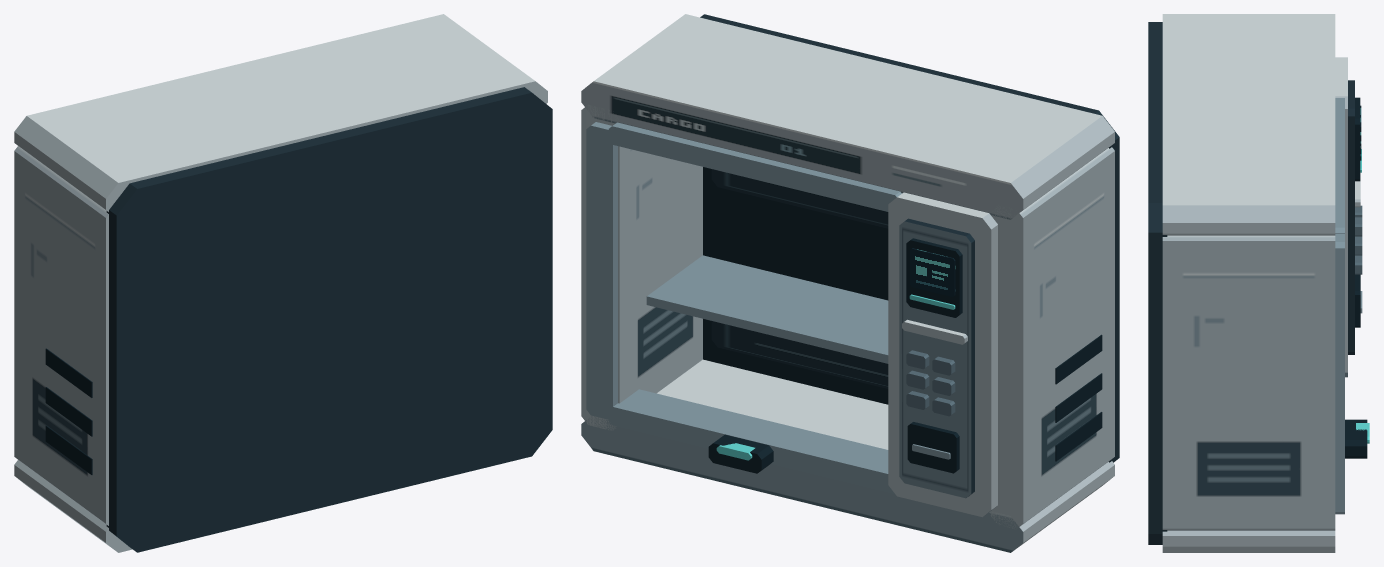
File: ship_locker_chassis.obj
3 renders of one model, left to right at view 1: azimuth 30°, elevation 25°; view 2: azimuth 150°, elevation 25°; view 3: azimuth 270°, elevation 25°, orthographic. The views are drawn at different scales.
Parts seen in each view (by area): view 1: wall_mounting_plate_0, upper_shell_2, right_shell_5, lower_shell_3, right_side_vent_4_3_29, right_side_vent_5_55_30, right_side_vent_6_8_31; view 2: upper_shell_2, right_shell_5, lower_shell_3, left_shell_4, recessed_cargo_back_1, cargo_shelf_23, console_chassis_9, console_face_10, lower_door_guide_7, left_rim_8, upper_door_guide_6, cargo_rear_lower_panel_25 (+10 smaller); view 3: left_shell_4, upper_shell_2, wall_mounting_plate_0, lower_shell_3, left_rim_8, console_face_10, console_chassis_9, upper_door_guide_6, hologram_projector_socket_27, status_screen_well_11, reader_recess_21.
Part boxes in pixels (<box>): wall_mounting_plate_0: <box>106,87,552,552</box>; upper_shell_2: <box>14,14,547,211</box>; right_shell_5: <box>14,146,108,525</box>; lower_shell_3: <box>14,460,132,552</box>; right_side_vent_4_3_29: <box>45,425,92,474</box>; right_side_vent_5_55_30: <box>45,387,92,436</box>; right_side_vent_6_8_31: <box>45,348,92,397</box>; upper_shell_2: <box>581,14,1114,219</box>; right_shell_5: <box>990,147,1114,528</box>; lower_shell_3: <box>581,359,1114,552</box>; left_shell_4: <box>581,104,702,430</box>; recessed_cargo_back_1: <box>703,167,888,404</box>; cargo_shelf_23: <box>646,255,888,363</box>; console_chassis_9: <box>888,192,997,517</box>; console_face_10: <box>899,218,974,498</box>; lower_door_guide_7: <box>608,389,894,493</box>; left_rim_8: <box>586,122,617,419</box>; upper_door_guide_6: <box>608,122,901,211</box>; cargo_rear_lower_panel_25: <box>711,321,888,388</box>; left_shell_4: <box>1162,235,1335,530</box>; upper_shell_2: <box>1162,14,1335,235</box>; wall_mounting_plate_0: <box>1148,22,1167,544</box>; lower_shell_3: <box>1162,530,1335,552</box>; left_rim_8: <box>1335,233,1344,514</box>; console_face_10: <box>1348,80,1354,354</box>; console_chassis_9: <box>1335,57,1347,377</box>; upper_door_guide_6: <box>1335,98,1344,233</box>; hologram_projector_socket_27: <box>1345,419,1367,458</box>; status_screen_well_11: <box>1355,97,1360,181</box>; reader_recess_21: <box>1355,274,1360,327</box>.
Size of the model in its own units: 0.9394 by 0.75 by 0.4331.
